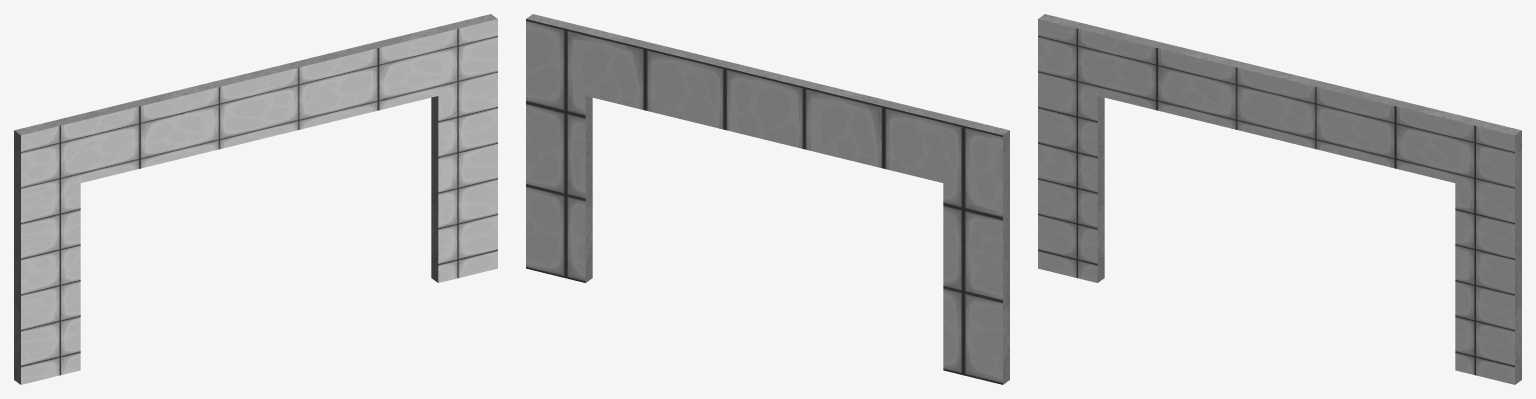
Rendered from SM_Wall_Gate.fbx.
The picture shows the model from 3 angles, left to right: view 1: azimuth 30°, elevation 25°; view 2: azimuth 150°, elevation 25°; view 3: azimuth 330°, elevation 25°; orthographic projection.
Visible parts, largest first — view 1: SM_Wall_Gate; view 2: SM_Wall_Gate; view 3: SM_Wall_Gate.
Boxes of the visible parts, x1,y1,x2,y2 form: SM_Wall_Gate: [14, 14, 497, 384]; SM_Wall_Gate: [526, 14, 1009, 384]; SM_Wall_Gate: [1038, 14, 1521, 384].
Bounding box in the file's own units: 800 × 400 × 20.
